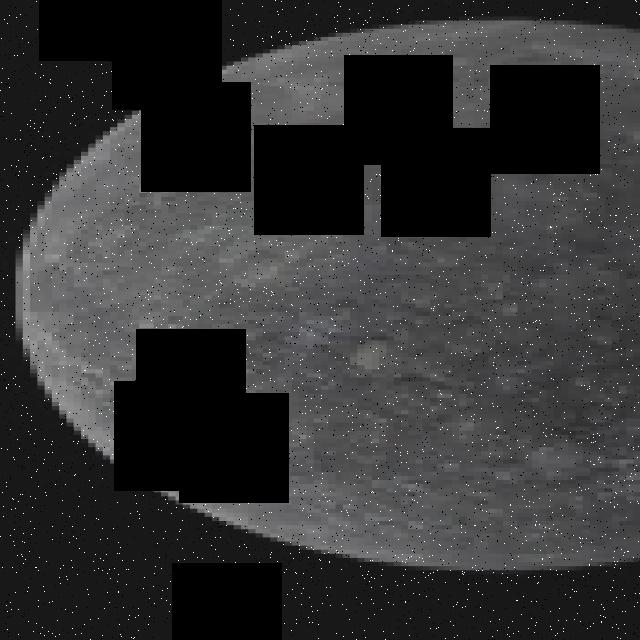Mercury: (8, 17, 640, 570)
